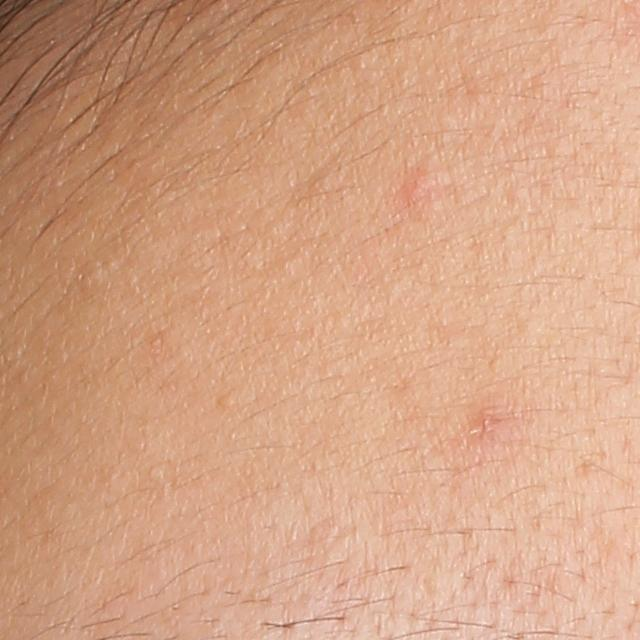comedo: (214, 390, 239, 412)
papule: (402, 165, 435, 205)
